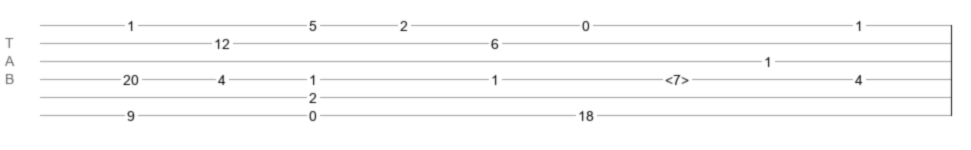0: (309, 108, 317, 118), (582, 18, 590, 28)
1: (127, 18, 135, 28), (309, 72, 317, 82), (491, 72, 499, 82), (764, 54, 772, 64), (855, 18, 863, 28)
12: (214, 36, 230, 46)
18: (578, 108, 594, 118)
2: (309, 90, 317, 100), (400, 18, 408, 28)
20: (123, 72, 139, 82)
4: (218, 72, 226, 82), (855, 72, 863, 82)
5: (309, 18, 317, 28)
6: (491, 36, 499, 46)
9: (127, 108, 135, 118)
harmonic: (665, 72, 689, 82)
